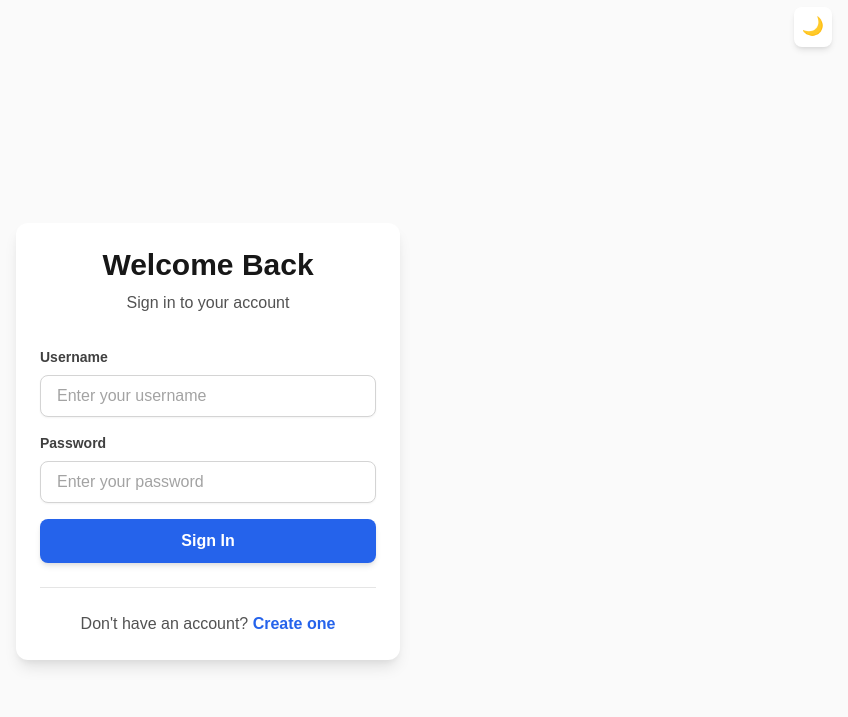
Login Page › Failed Login › should display default error message when login fails without error object
The image size is (848, 717).
In the field labelled "Username": (208, 396) x1=40 y1=374 x2=376 y2=416, type "testuser"
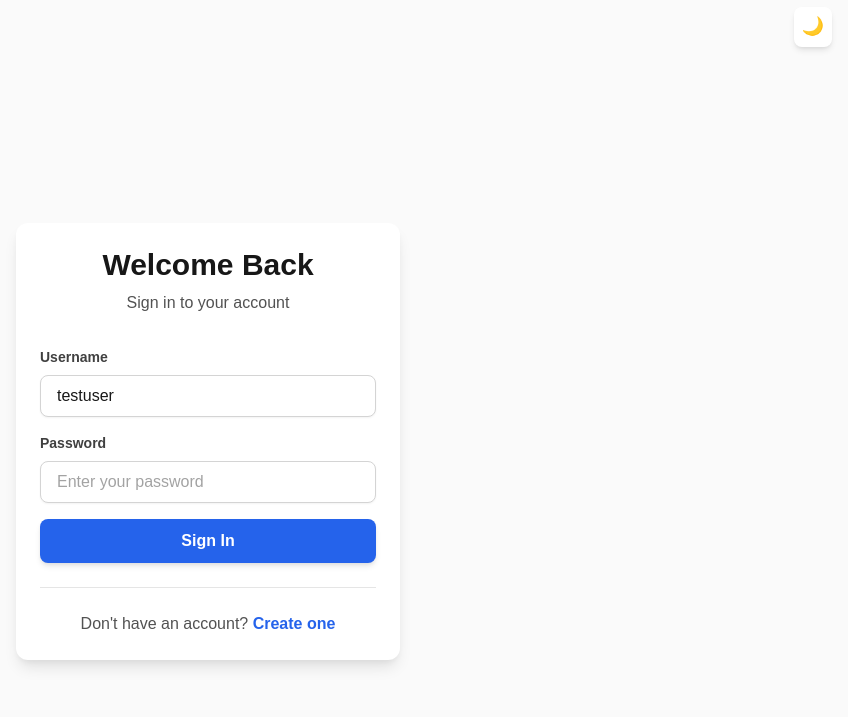
In the password field labelled "Password": (208, 482) x1=40 y1=460 x2=376 y2=502, type "password123"
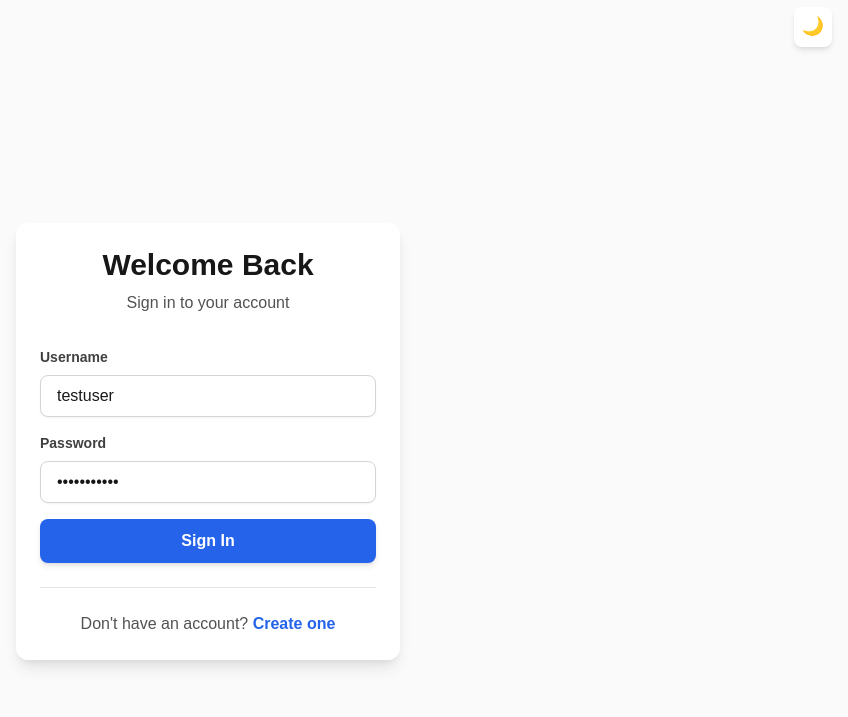
Click the button "Sign In": (208, 540) x1=40 y1=518 x2=376 y2=562
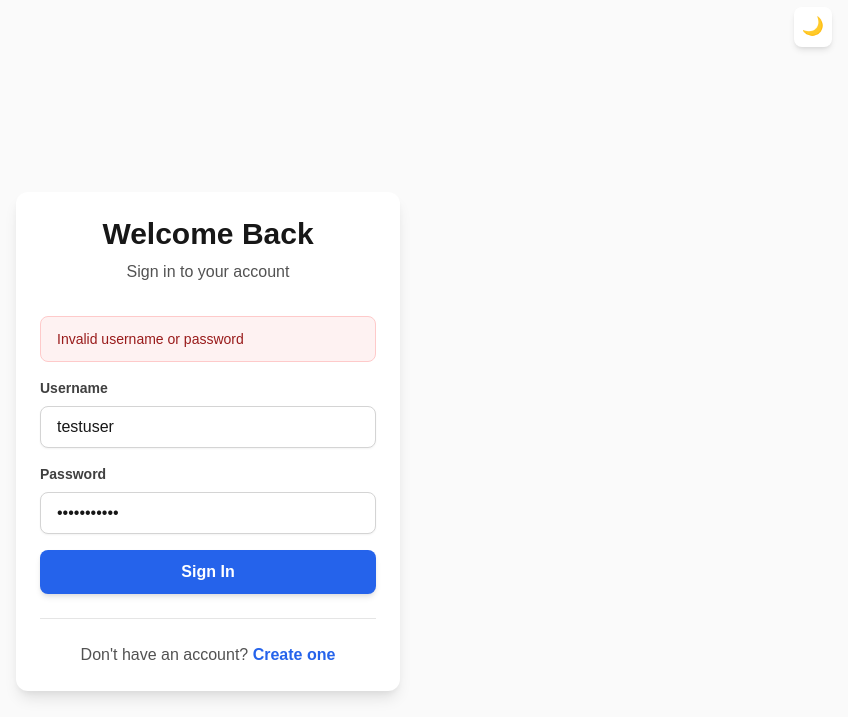
Expected: the text "Invalid username or password" is shown, x1=40 y1=316 x2=376 y2=362
